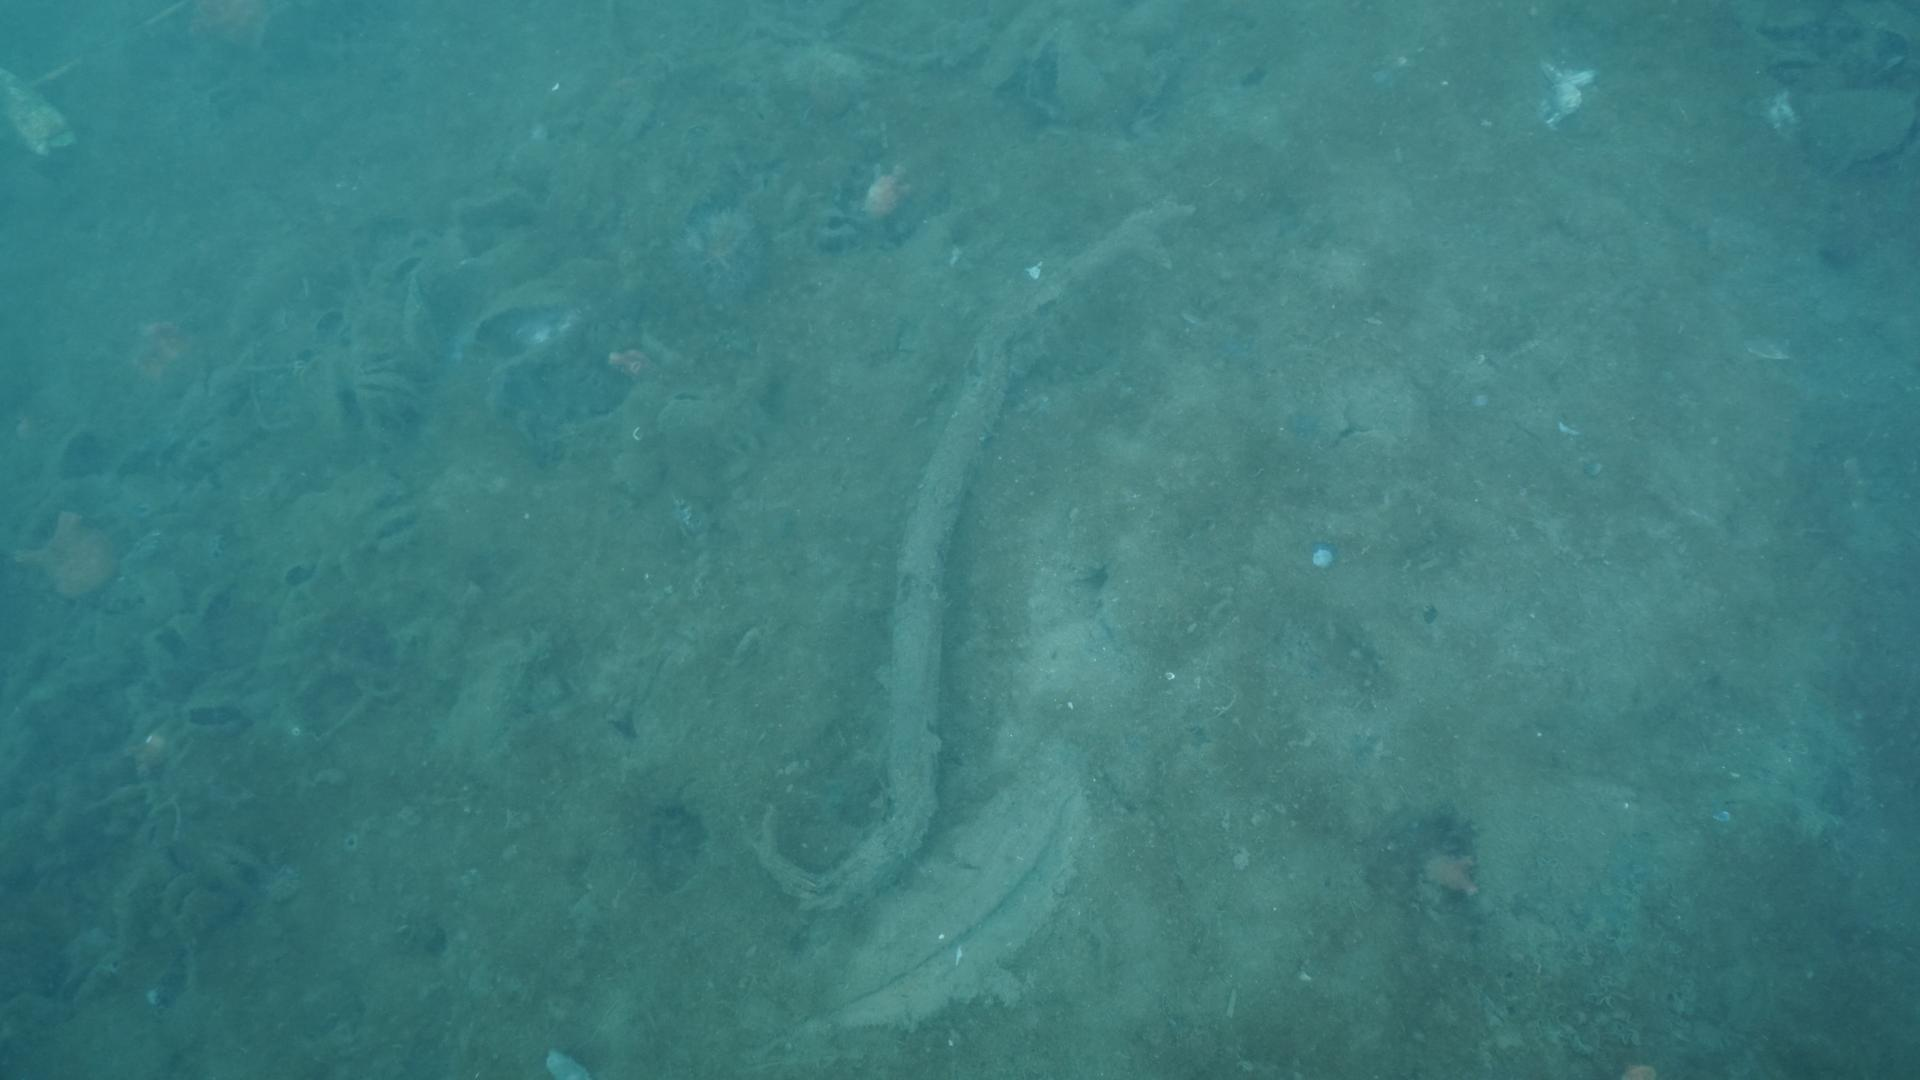wood: (752, 191, 1197, 1026)
